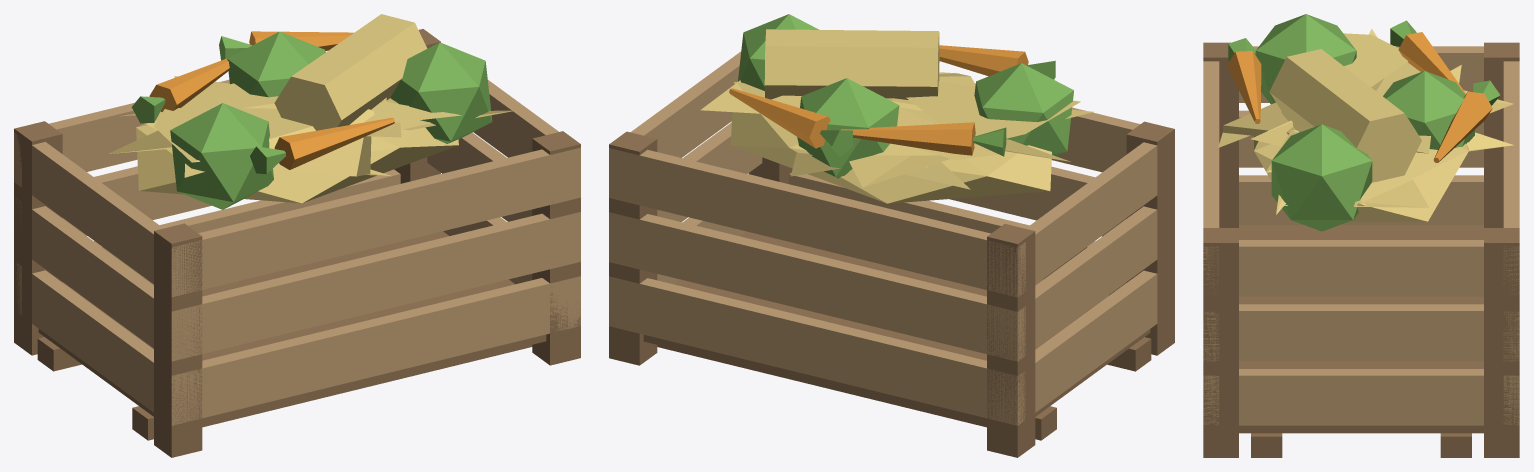
File: food_crate.glb
3 views of the same model, side by side, from view 1: azimuth 30°, elevation 25°; view 2: azimuth 150°, elevation 25°; view 3: azimuth 270°, elevation 25° (orthographic).
Parts seen in each view (by area): view 1: FoodCrate_wood_light, FoodCrate_wood_dark, FoodCrate_hay, FoodCrate_produce_green, FoodCrate_produce_orange; view 2: FoodCrate_wood_light, FoodCrate_hay, FoodCrate_wood_dark, FoodCrate_produce_green, FoodCrate_produce_orange; view 3: FoodCrate_wood_light, FoodCrate_wood_dark, FoodCrate_hay, FoodCrate_produce_green, FoodCrate_produce_orange.
Boxes of the visible parts, <box> form: FoodCrate_wood_light: <box>14,80,580,425</box>; FoodCrate_wood_dark: <box>14,29,580,457</box>; FoodCrate_hay: <box>108,14,514,203</box>; FoodCrate_produce_green: <box>131,31,492,209</box>; FoodCrate_produce_orange: <box>149,31,394,169</box>; FoodCrate_wood_light: <box>609,51,1157,425</box>; FoodCrate_hay: <box>700,29,1093,203</box>; FoodCrate_wood_dark: <box>609,121,1174,457</box>; FoodCrate_produce_green: <box>738,14,1073,178</box>; FoodCrate_produce_orange: <box>729,45,1028,155</box>; FoodCrate_wood_light: <box>1203,46,1519,425</box>; FoodCrate_wood_dark: <box>1203,42,1519,457</box>; FoodCrate_hay: <box>1218,29,1513,221</box>; FoodCrate_produce_green: <box>1228,14,1500,231</box>; FoodCrate_produce_orange: <box>1227,32,1492,162</box>.
Size of the model in its own units: 0.6 by 0.4133 by 0.4.
